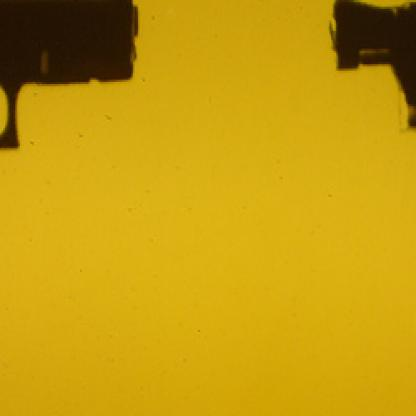gun: (0, 0, 160, 310), (322, 0, 415, 317)
